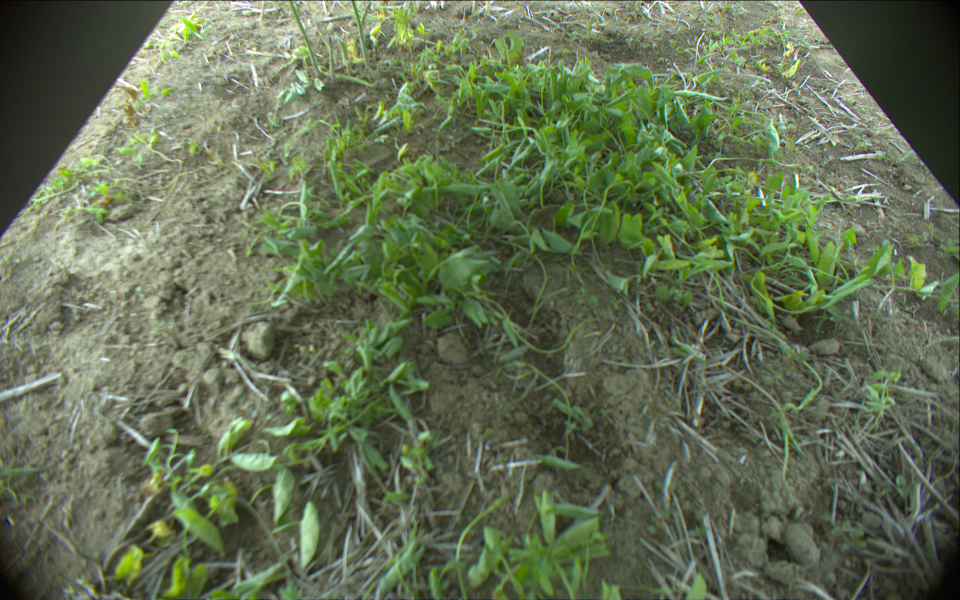aspa: (286, 1, 322, 71), (314, 64, 376, 88), (350, 1, 373, 64), (324, 34, 336, 84), (358, 1, 375, 29), (337, 36, 349, 70)
